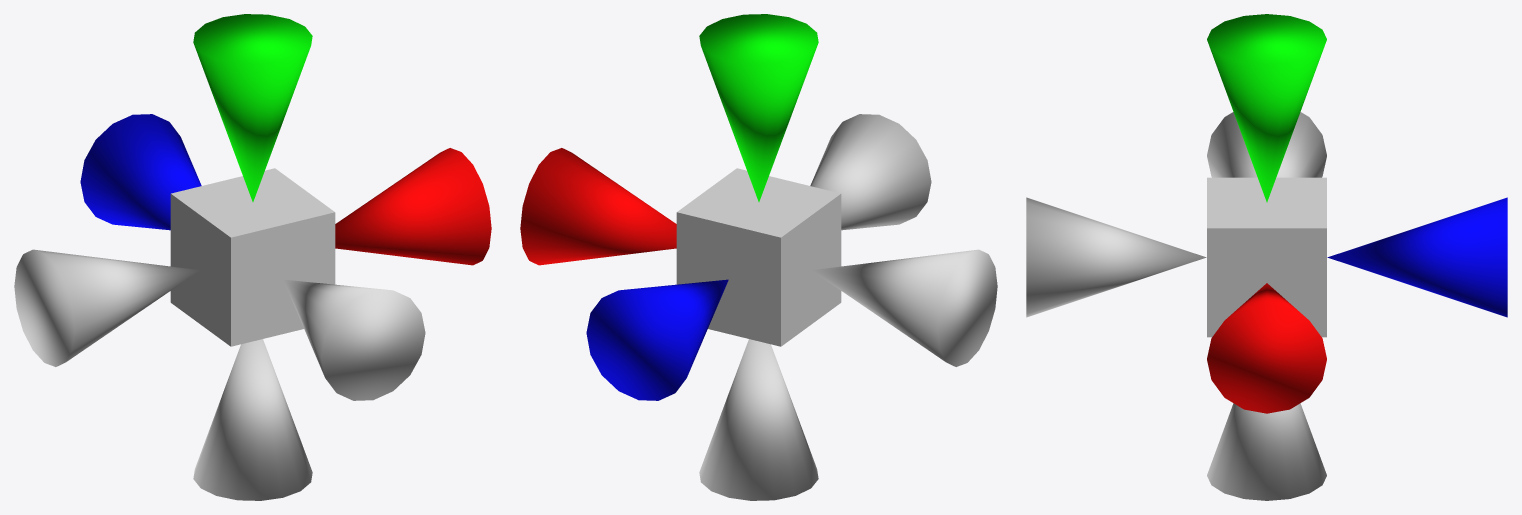
File: UnityPivotGizmo.fbx
3 views of the same model, side by side, from view 1: azimuth 30°, elevation 25°; view 2: azimuth 150°, elevation 25°; view 3: azimuth 270°, elevation 25° (orthographic).
Parts seen in each view (by area): view 1: PivotGizmo; view 2: PivotGizmo; view 3: PivotGizmo.
Part boxes in pixels (x1,y1,x2,y2): PivotGizmo: (14, 14, 491, 500); PivotGizmo: (520, 14, 997, 500); PivotGizmo: (1026, 14, 1507, 500).
Size of the model in its own units: 0.8 by 0.8 by 0.8.
